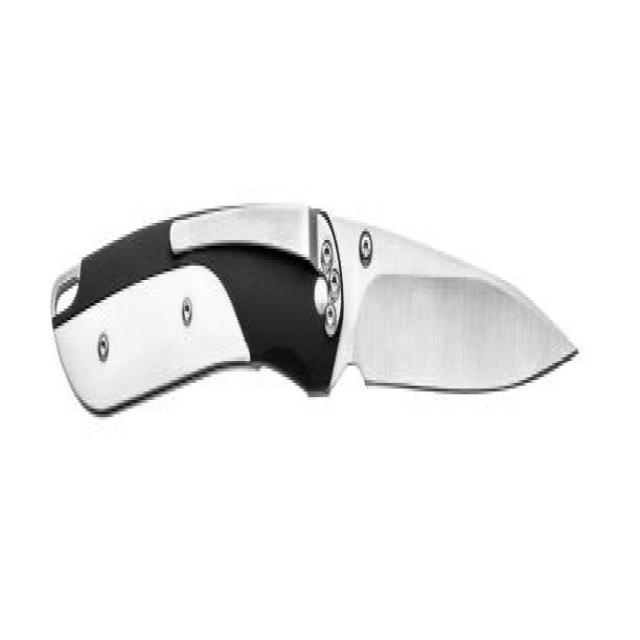knife: (50, 179, 586, 440)
